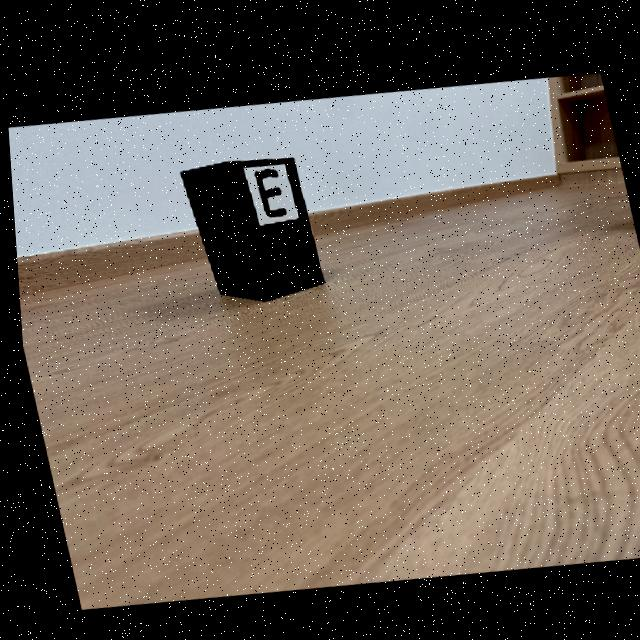E: (252, 166, 284, 215)
